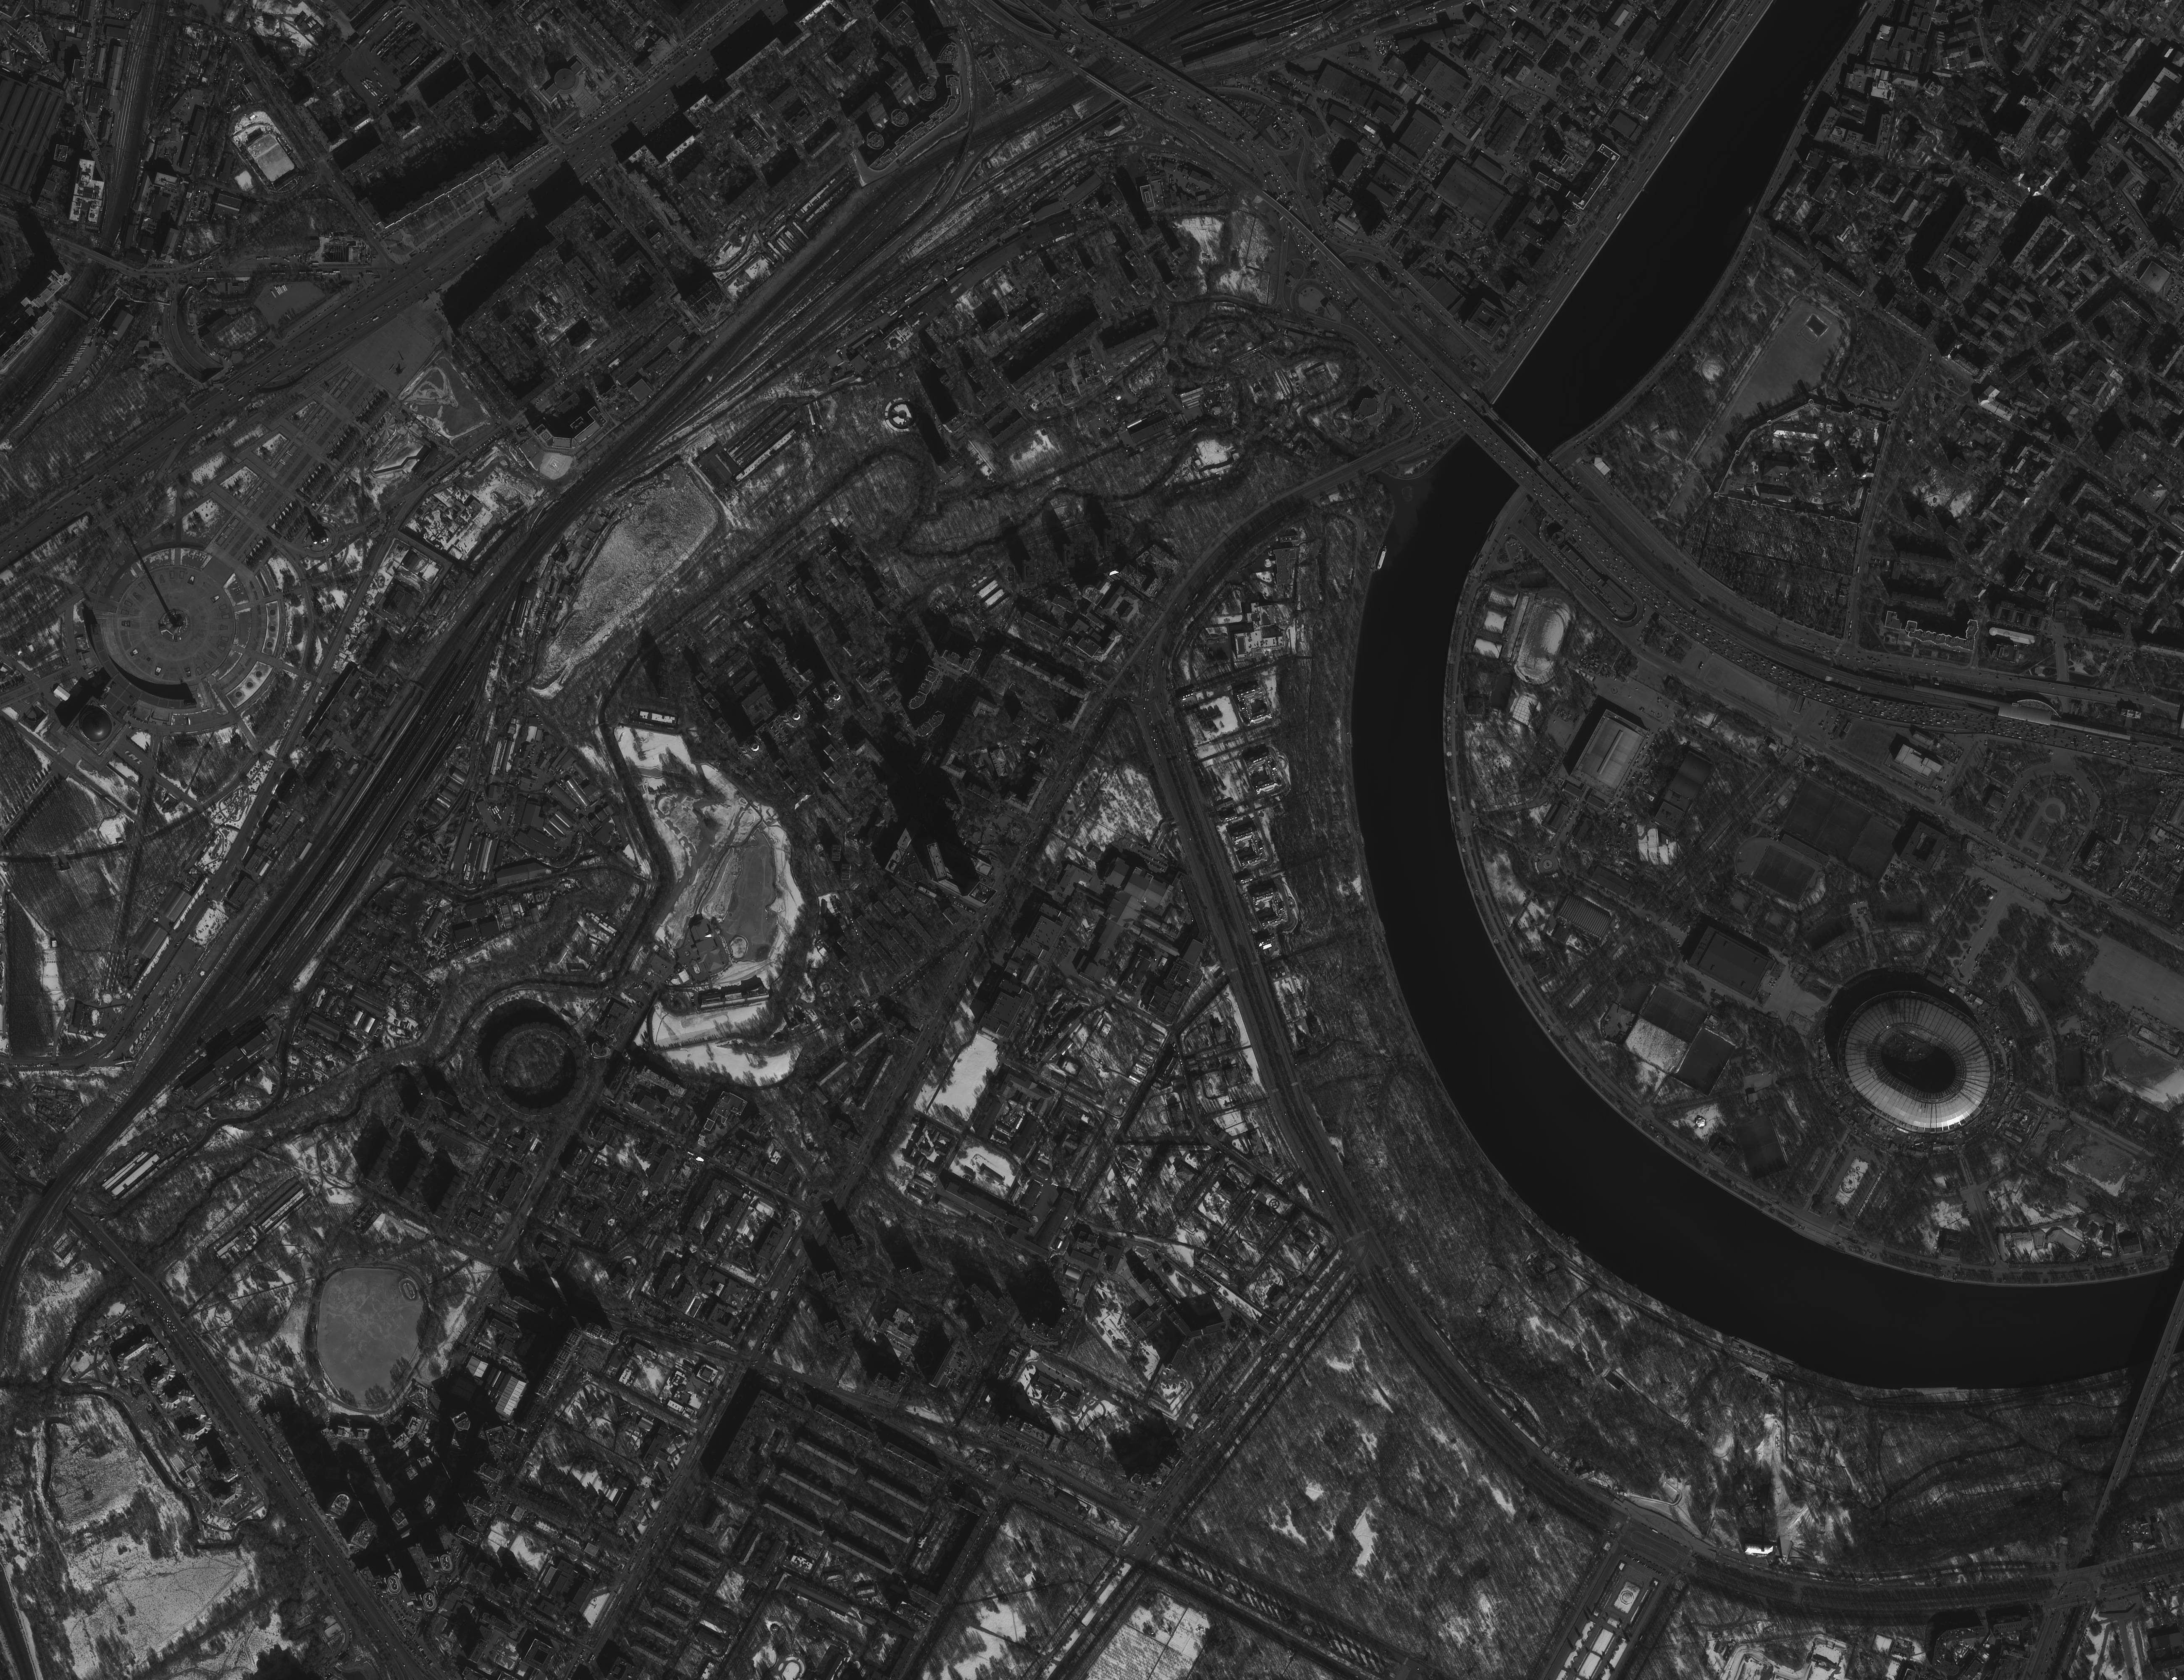bridge: (1464, 420, 1535, 487), (1487, 408, 1545, 468), (2154, 1281, 2184, 1362)
ground track field: (1725, 828, 1833, 914)
roundabout: (2046, 803, 2062, 821)
soccer ball field: (1641, 983, 1709, 1046), (1814, 796, 1874, 863), (1782, 780, 1840, 845), (1752, 847, 1815, 904)
